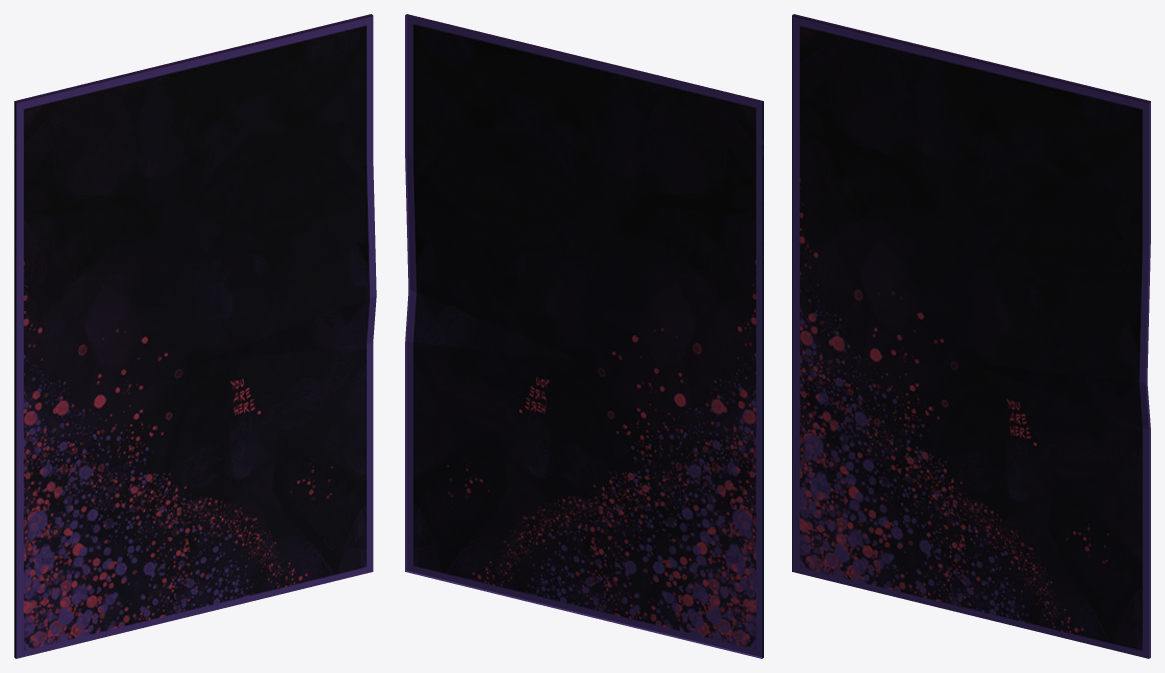
The model's file is Poster2.glb.
3 renders of one model, left to right at view 1: azimuth 30°, elevation 25°; view 2: azimuth 150°, elevation 25°; view 3: azimuth 330°, elevation 25°, orthographic.
Parts seen in each view (by area): view 1: Poster2.001; view 2: Poster2.001; view 3: Poster2.001.
Part boxes in pixels (x1,y1,x2,y2): Poster2.001: (14, 14, 376, 658); Poster2.001: (405, 14, 763, 658); Poster2.001: (792, 14, 1150, 658).
Bounding box in the file's own units: 0.6875 × 1.02 × 0.0174.
1 material, 1 textured.
